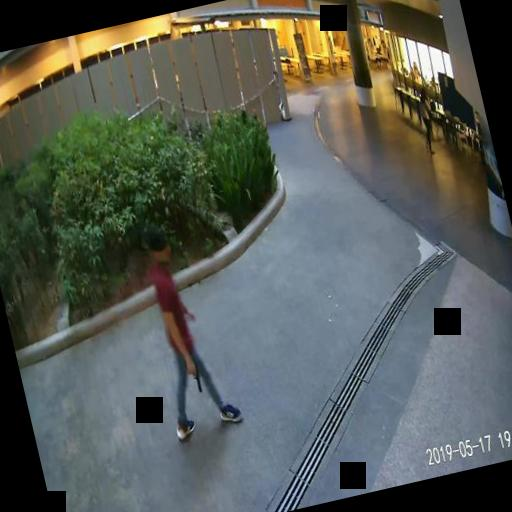Handgun: (184, 358, 202, 392)
